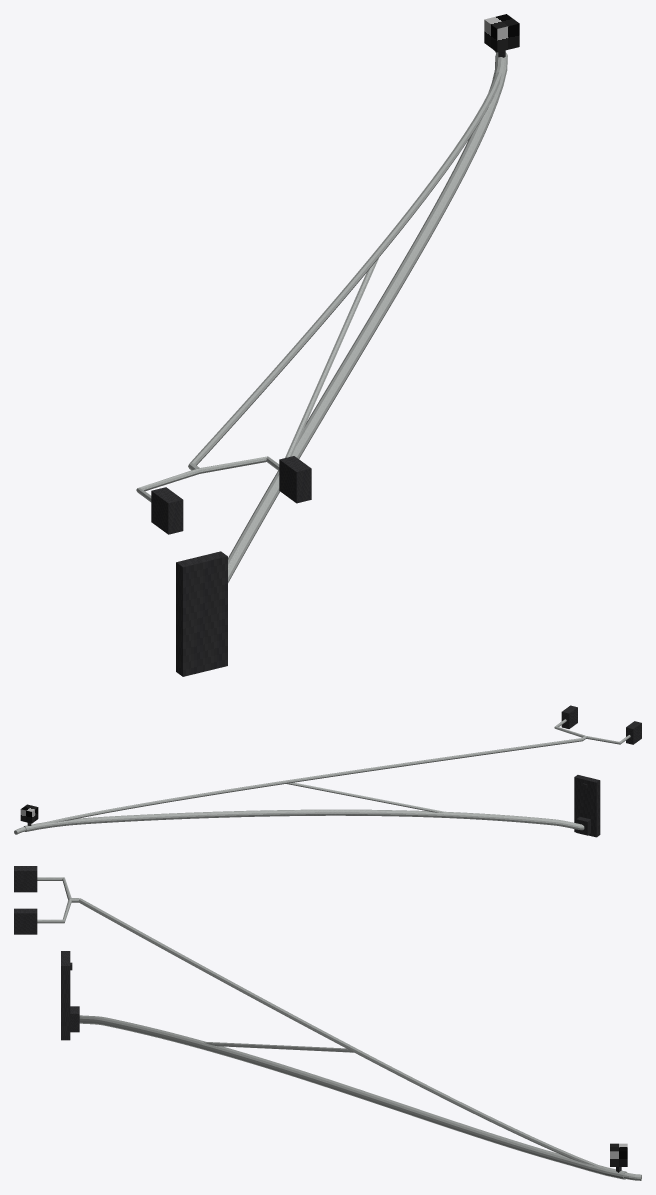
Rendered from arm_8_right.obj.
The picture shows the model from 3 angles, top to bottom: view 1: azimuth 30°, elevation 25°; view 2: azimuth 150°, elevation 25°; view 3: azimuth 270°, elevation 25°; orthographic projection. The views are drawn at different scales.
Parts seen in each view (by area): view 1: pole_light_mount_8_right; view 2: pole_light_mount_8_right; view 3: pole_light_mount_8_right.
Boxes of the visible parts, <box> form: pole_light_mount_8_right: <box>136,14,519,676</box>; pole_light_mount_8_right: <box>14,705,641,837</box>; pole_light_mount_8_right: <box>14,866,641,1180</box>.
Size of the model in its own units: 6.63 by 1.68 by 6.69.
